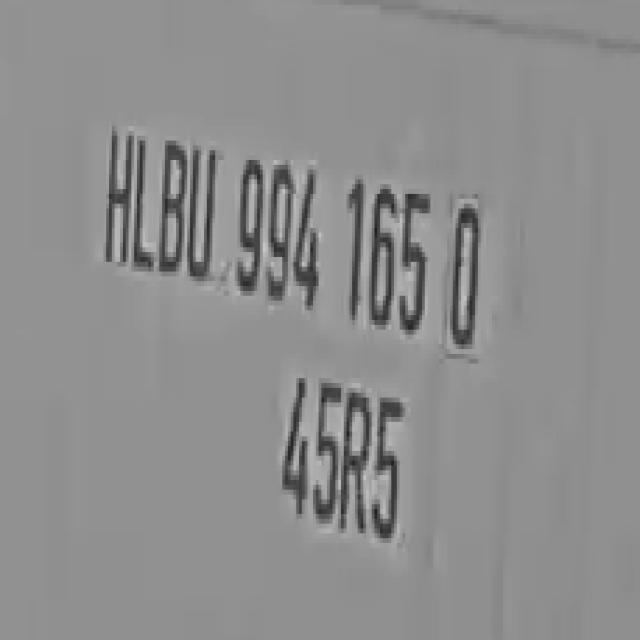dv: (440, 184, 480, 356)
owner: (98, 102, 218, 286)
serial: (234, 150, 431, 344)
size: (271, 362, 413, 552)
